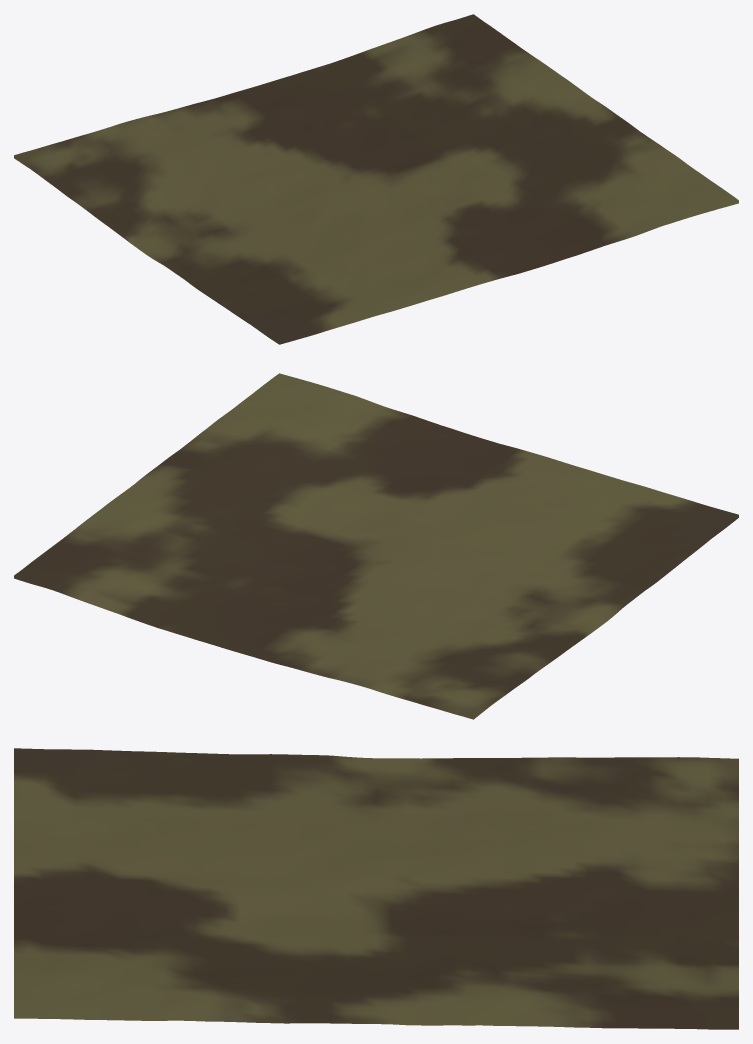
Rendered from land_m_15_05.glb.
The picture shows the model from 3 angles, top to bottom: view 1: azimuth 30°, elevation 25°; view 2: azimuth 150°, elevation 25°; view 3: azimuth 270°, elevation 25°; orthographic projection. The views are drawn at different scales.
Parts seen in each view (by area): view 1: land_m_15_05; view 2: land_m_15_05; view 3: land_m_15_05.
Part boxes in pixels (left/top/right/bottom): land_m_15_05: left=14, top=14, right=738, bottom=344; land_m_15_05: left=14, top=373, right=738, bottom=719; land_m_15_05: left=14, top=748, right=738, bottom=1029.
Size of the model in its own units: 960 by 79.94 by 960.
